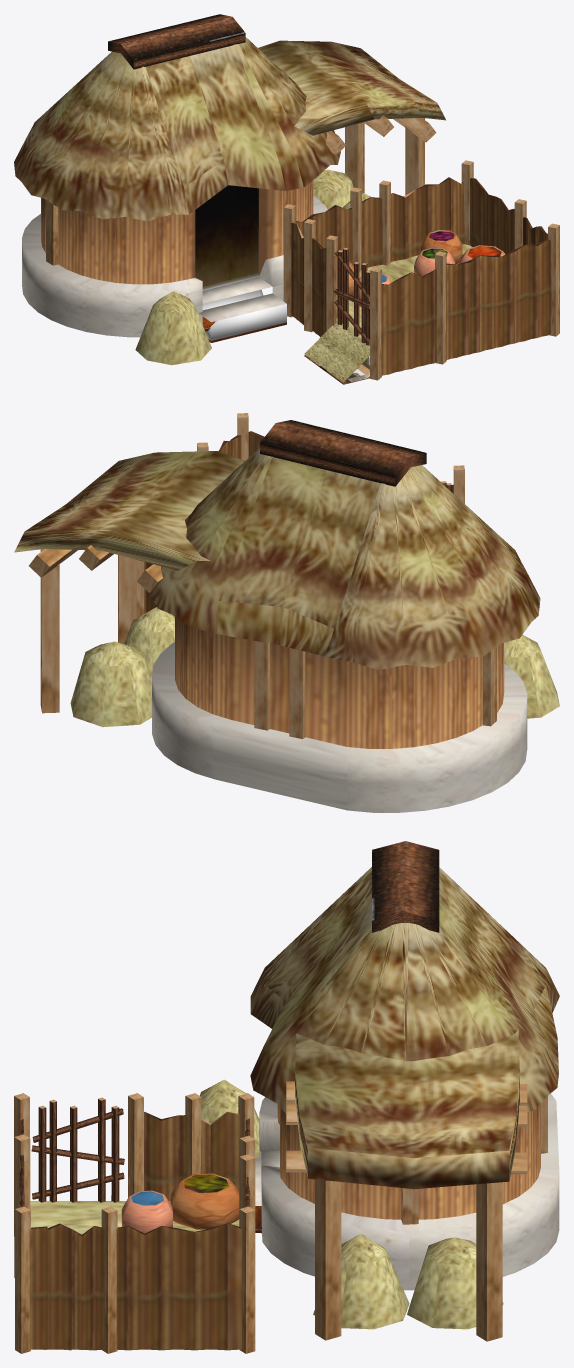
The model's file is corral_1.dae.
3 views of the same model, one above another, from view 1: azimuth 30°, elevation 25°; view 2: azimuth 150°, elevation 25°; view 3: azimuth 270°, elevation 25° (orthographic). The views are drawn at different scales.
Parts seen in each view (by area): view 1: corral_1; view 2: corral_1; view 3: corral_1.
Boxes of the visible parts, x1,y1,x2,y2 form: corral_1: [14, 14, 559, 384]; corral_1: [14, 413, 559, 812]; corral_1: [14, 841, 559, 1353].
Bounding box in the file's own units: 14.39 × 13.72 × 9.18.
